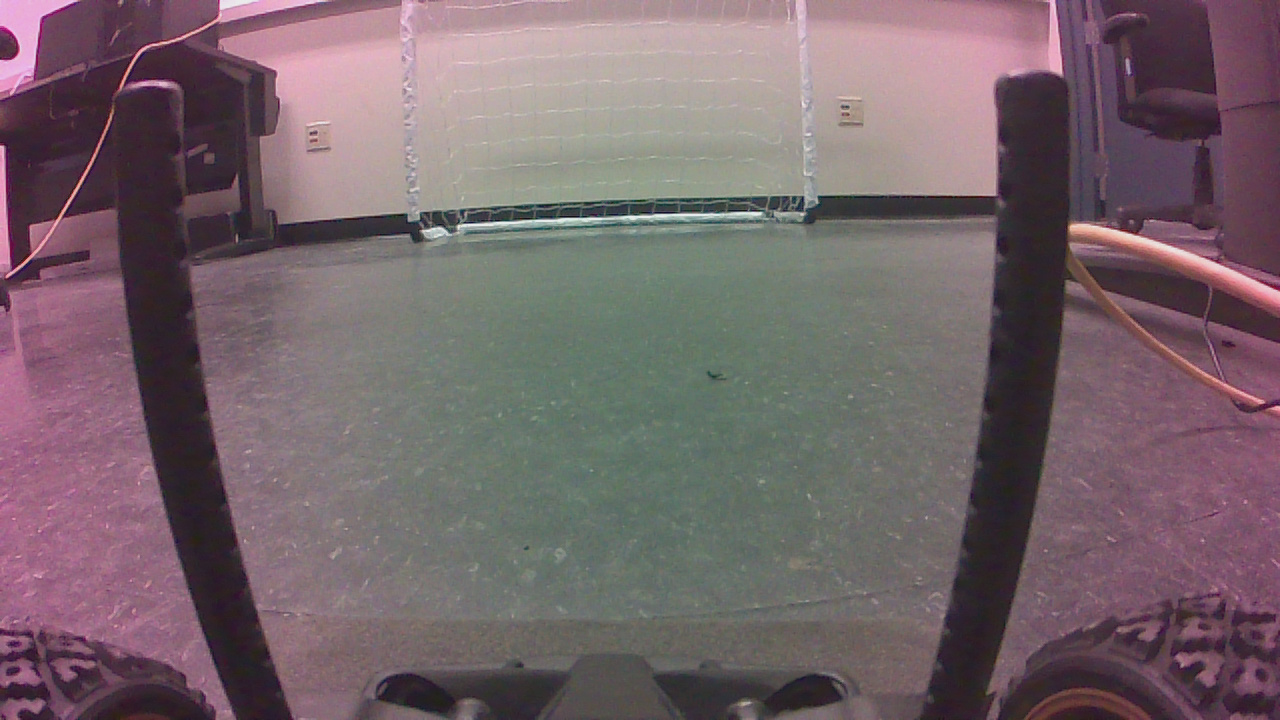goal: (404, 3, 828, 251)
